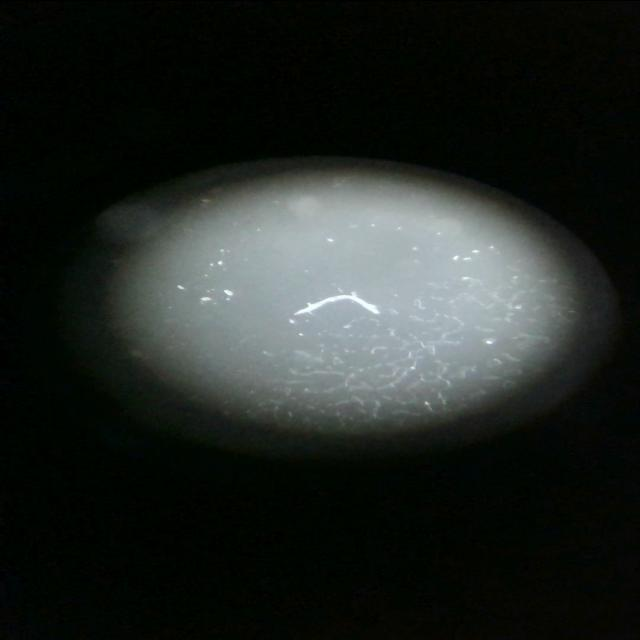psudo-nitzschia: (278, 276, 408, 325)
